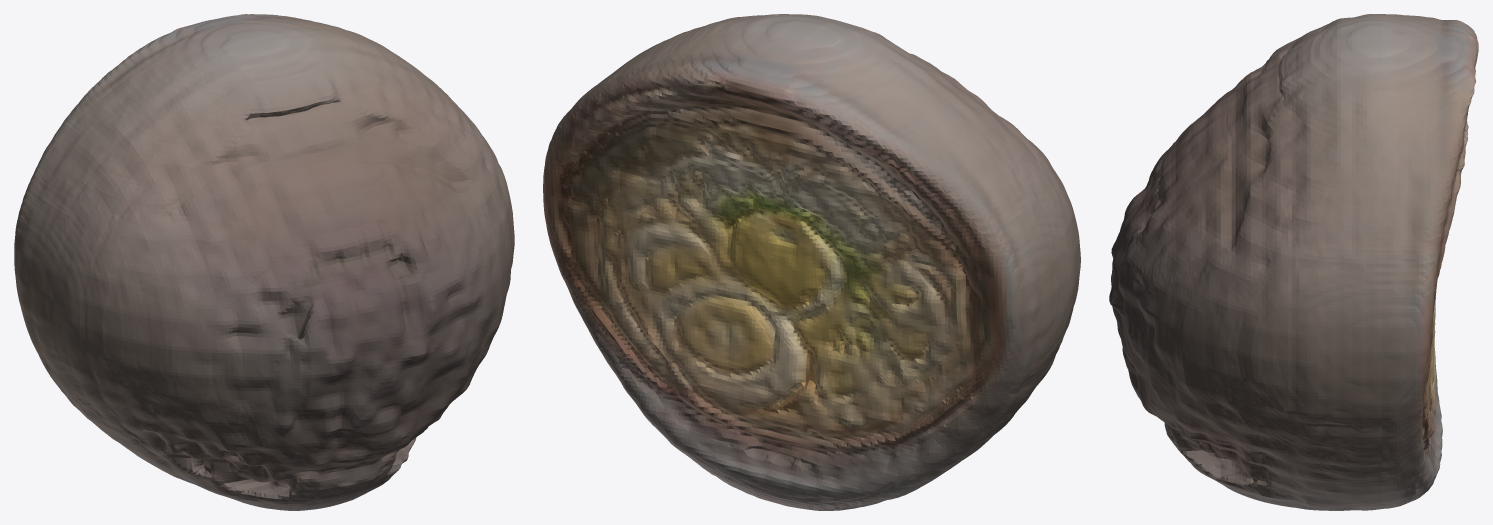
Rendered from ramen.glb.
3 views of the same model, side by side, from view 1: azimuth 30°, elevation 25°; view 2: azimuth 150°, elevation 25°; view 3: azimuth 270°, elevation 25° (orthographic). The views are drawn at different scales.
Visible parts, largest first — view 1: geometry_0; view 2: geometry_0; view 3: geometry_0.
Boxes of the visible parts, x1,y1,x2,y2 form: geometry_0: [14, 14, 514, 510]; geometry_0: [543, 14, 1080, 510]; geometry_0: [1109, 14, 1478, 510].
Bounding box in the file's own units: 0.9802 × 0.9035 × 0.6722.
